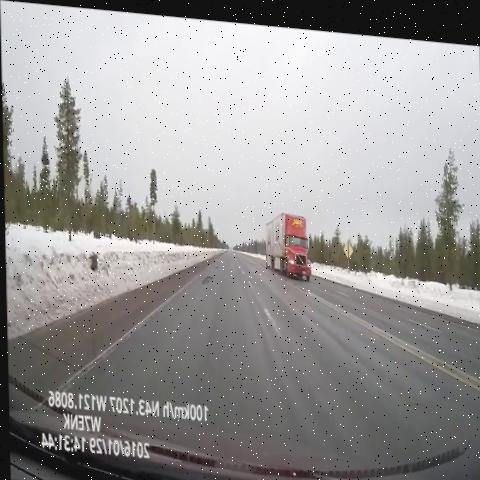pothole: (194, 266, 212, 289), (208, 257, 219, 269)
